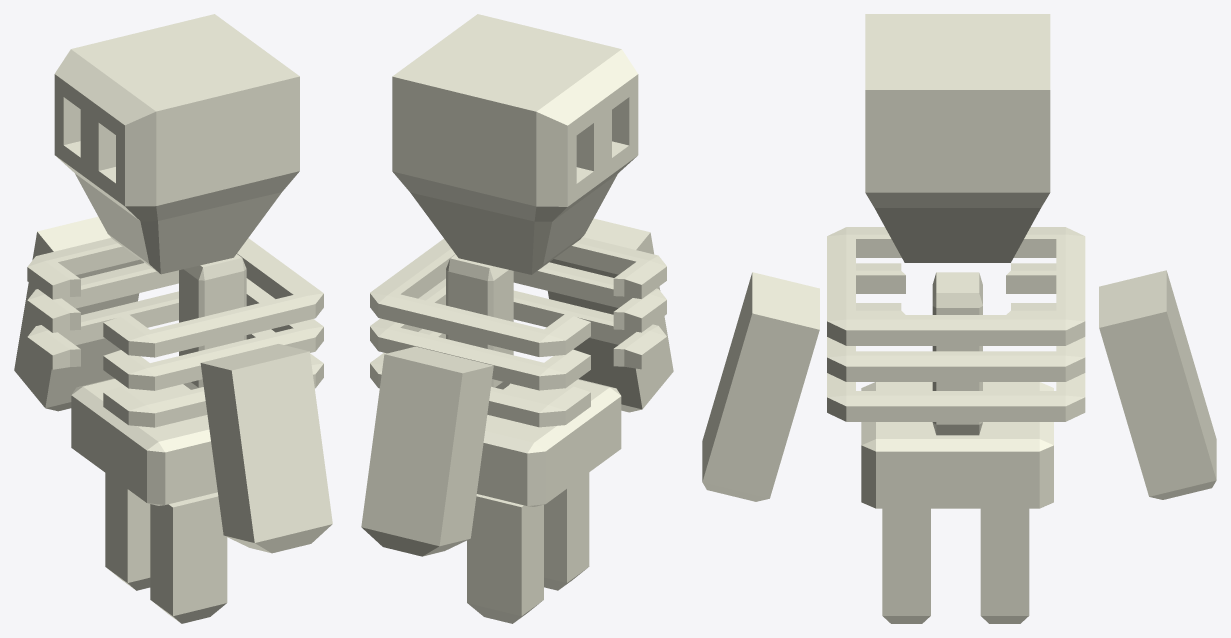
File: Skeleton.FBX
3 views of the same model, side by side, from view 1: azimuth 30°, elevation 25°; view 2: azimuth 150°, elevation 25°; view 3: azimuth 270°, elevation 25° (orthographic). The views are drawn at different scales.
Visible parts, largest first — view 1: Box004, Box008, Box026, Box009, Box027, Box002, Box028, Box011, Box010, Box001; view 2: Box004, Box011, Box026, Box009, Box027, Box010, Box028, Box008, Box002, Box001; view 3: Box004, Box008, Box011, Box009, Box026, Box027, Box028, Box010, Box002, Box001.
Part boxes in pixels (x1=…): Box004: x1=54, y1=14, x2=299, y2=274; Box008: x1=200, y1=344, x2=332, y2=553; Box026: x1=27, y1=238, x2=323, y2=357; Box009: x1=71, y1=378, x2=217, y2=505; Box027: x1=27, y1=263, x2=323, y2=390; Box002: x1=150, y1=492, x2=227, y2=623; Box028: x1=27, y1=291, x2=323, y2=427; Box011: x1=14, y1=216, x2=144, y2=411; Box010: x1=105, y1=473, x2=150, y2=590; Box001: x1=179, y1=254, x2=246, y2=389; Box004: x1=392, y1=14, x2=638, y2=274; Box011: x1=361, y1=346, x2=493, y2=556; Box026: x1=370, y1=237, x2=666, y2=356; Box009: x1=476, y1=379, x2=621, y2=506; Box027: x1=370, y1=262, x2=666, y2=390; Box010: x1=467, y1=494, x2=543, y2=623; Box028: x1=370, y1=290, x2=666, y2=427; Box008: x1=547, y1=218, x2=673, y2=412; Box002: x1=544, y1=472, x2=589, y2=590; Box001: x1=446, y1=254, x2=513, y2=389; Box004: x1=865, y1=14, x2=1050, y2=262; Box008: x1=702, y1=272, x2=819, y2=501; Box011: x1=1099, y1=270, x2=1216, y2=499; Box009: x1=861, y1=382, x2=1053, y2=508; Box026: x1=827, y1=227, x2=1085, y2=345; Box027: x1=827, y1=263, x2=1085, y2=381; Box028: x1=827, y1=303, x2=1085, y2=421; Box010: x1=980, y1=508, x2=1029, y2=623; Box002: x1=882, y1=508, x2=930, y2=623; Box001: x1=932, y1=272, x2=982, y2=435.
Size of the model in its own units: 8.3 by 21.53 by 17.45.
